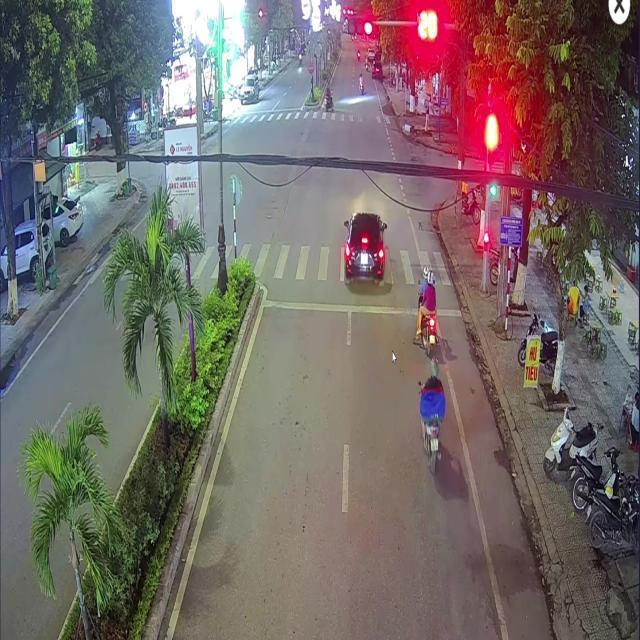car: (342, 212, 386, 281)
motobike: (413, 284, 436, 350), (420, 412, 441, 473)
red_light: (345, 17, 372, 35), (486, 133, 495, 167), (483, 232, 487, 251)
stop_line: (263, 299, 463, 316)
